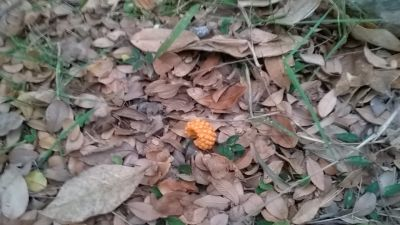eggs: (184, 116, 217, 150)
